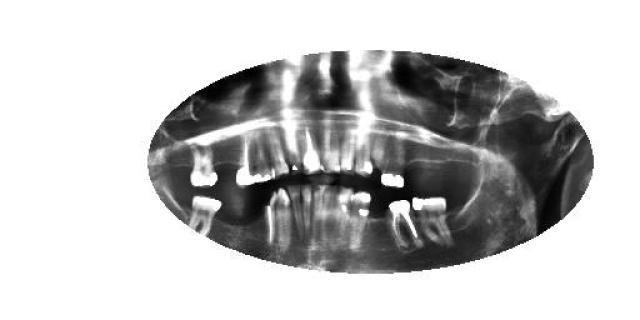Cavity: (264, 189, 278, 246)
Fillings: (414, 195, 451, 245), (348, 188, 372, 252), (188, 146, 222, 189), (256, 132, 278, 186), (381, 142, 405, 188), (355, 135, 377, 179)
Implant: (385, 200, 419, 258), (234, 134, 258, 188), (302, 125, 324, 175)
